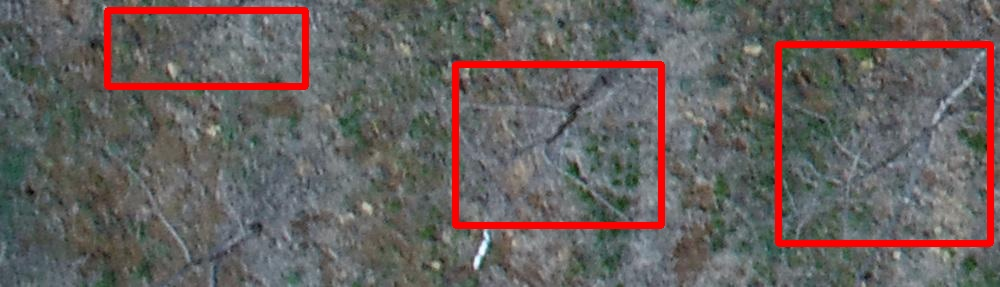apple: (778, 44, 990, 243), (455, 64, 661, 225), (107, 10, 305, 86)
